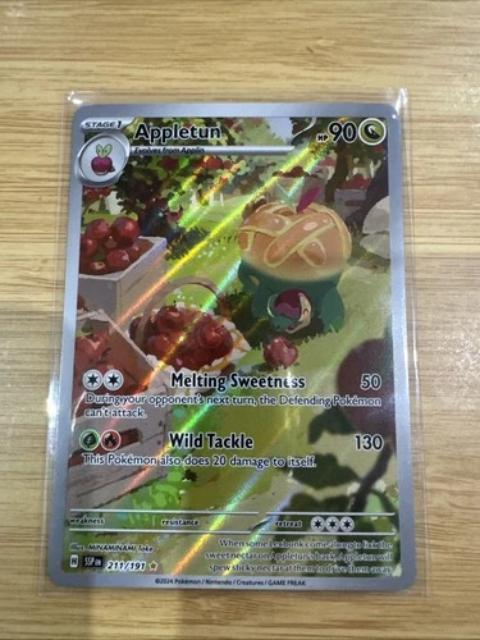Card: (44, 101, 420, 595)
Name: (131, 119, 242, 143)
